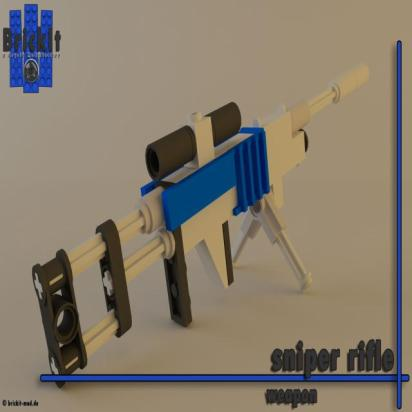Gun: (31, 53, 375, 392)
